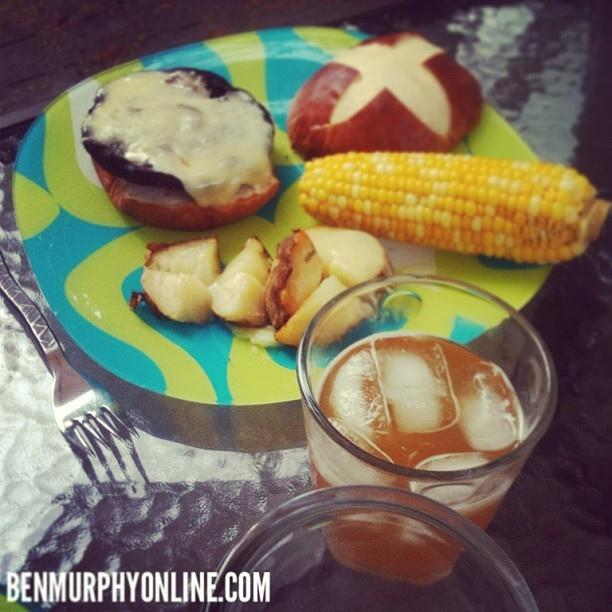corn: (298, 150, 610, 266)
potato: (288, 32, 484, 160), (90, 155, 278, 233), (274, 272, 374, 348), (208, 236, 274, 328), (264, 230, 324, 330), (302, 225, 395, 288), (139, 266, 214, 326), (144, 235, 222, 288)
